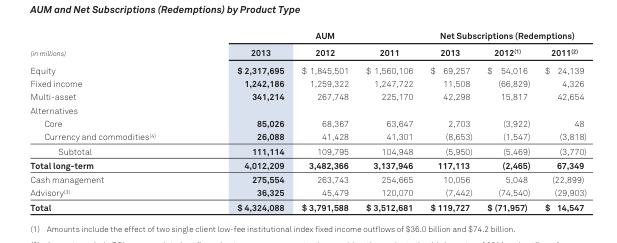table: (29, 29, 585, 212)
table column: (29, 29, 195, 212), (195, 29, 292, 212), (356, 29, 421, 212), (292, 29, 356, 212), (421, 29, 479, 212), (479, 29, 536, 212), (536, 29, 585, 212)
table column header: (29, 29, 585, 60)
table projected row header: (29, 103, 585, 116)
table row: (29, 43, 585, 60), (29, 60, 585, 76), (29, 29, 585, 43), (29, 89, 585, 103), (29, 129, 585, 143), (29, 143, 585, 157), (29, 157, 585, 171), (29, 171, 585, 185), (29, 185, 585, 199), (29, 76, 585, 89), (29, 103, 585, 116), (29, 116, 585, 129), (29, 199, 585, 212)
table spanning cell: (29, 29, 195, 60), (195, 29, 421, 43), (421, 29, 585, 43)
